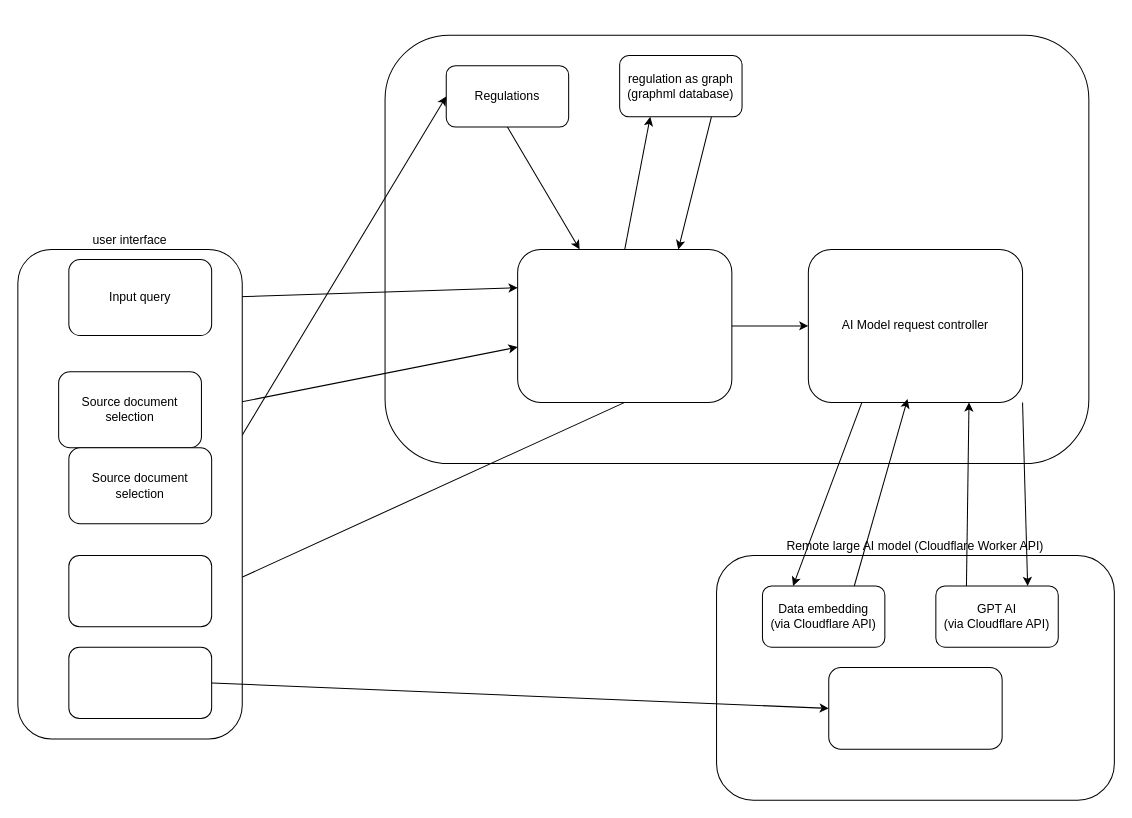
This 1132x818 diagram has some shape labels left out. Each missing label, with the box of its shape:
Cloudflare access management (API Key and base url): (68, 646, 212, 719)
Information to run the API (API key and base URL): (828, 667, 1002, 749)
Knowledge graph handling (LightRAG by HKUDS): (517, 248, 732, 402)
Output text: (68, 554, 212, 627)
Server computer processing: (384, 34, 1089, 464)
